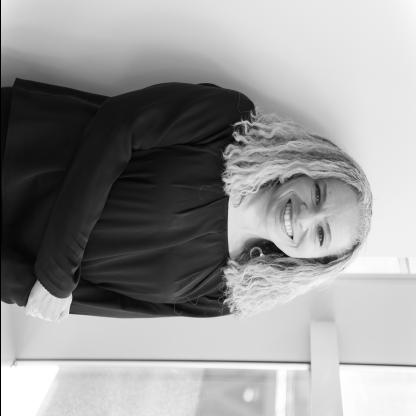Eye: (310, 180, 324, 208), (313, 222, 326, 250)
Mouth: (278, 196, 296, 242)
Nose: (296, 203, 316, 233)
